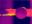Hotspot: (8, 11, 15, 16)
